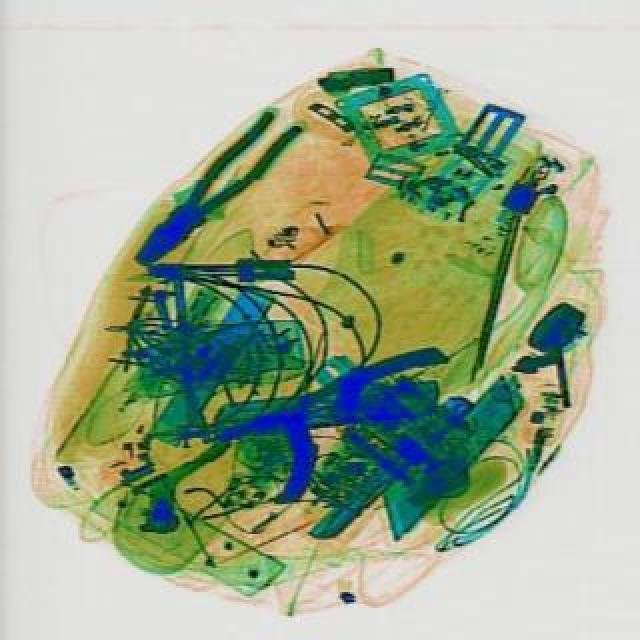wrench: (120, 102, 304, 282)
